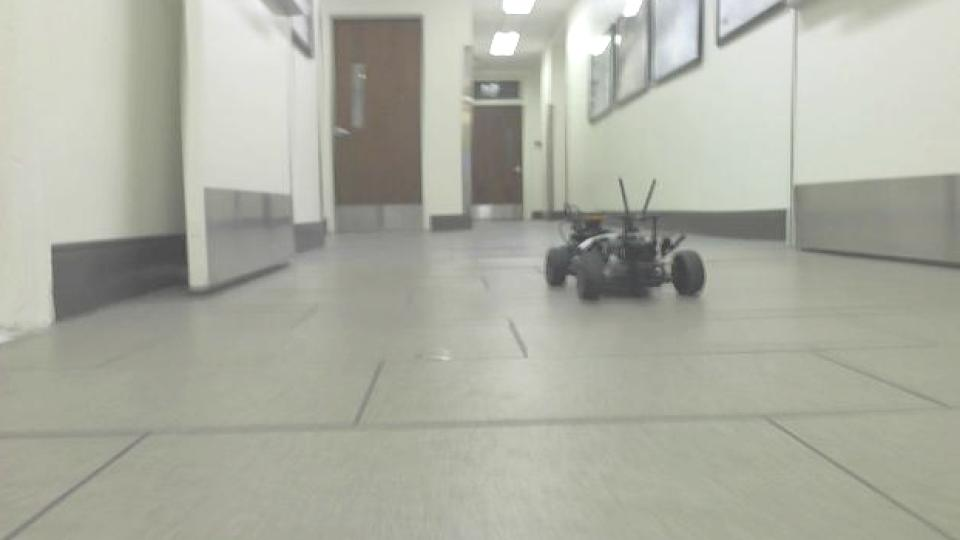car: (539, 174, 708, 304)
